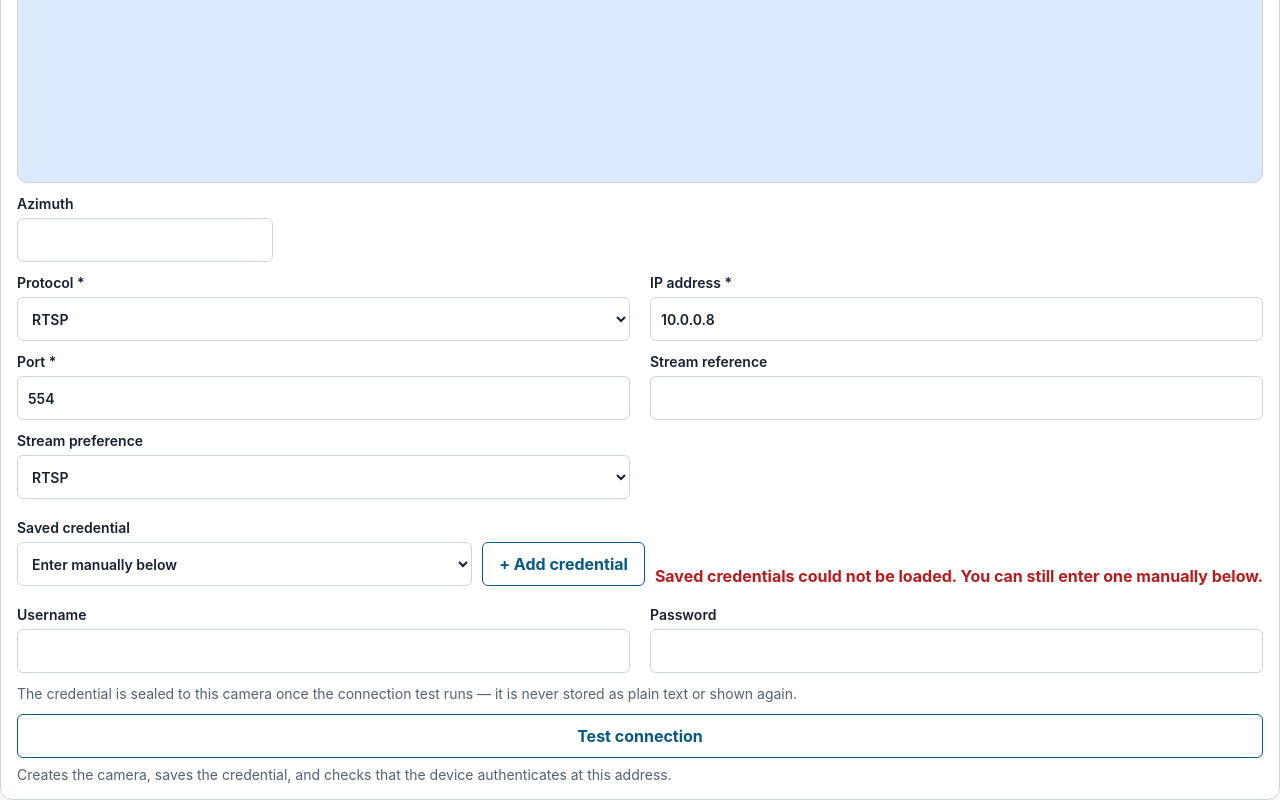
it: CameraForm › does not advance when the device is unreachable
(page scrolled)
Step 1. Click the button "Test connection" → {"x": 640, "y": 736}, box 17,714 -> 1263,758
(page scrolled)
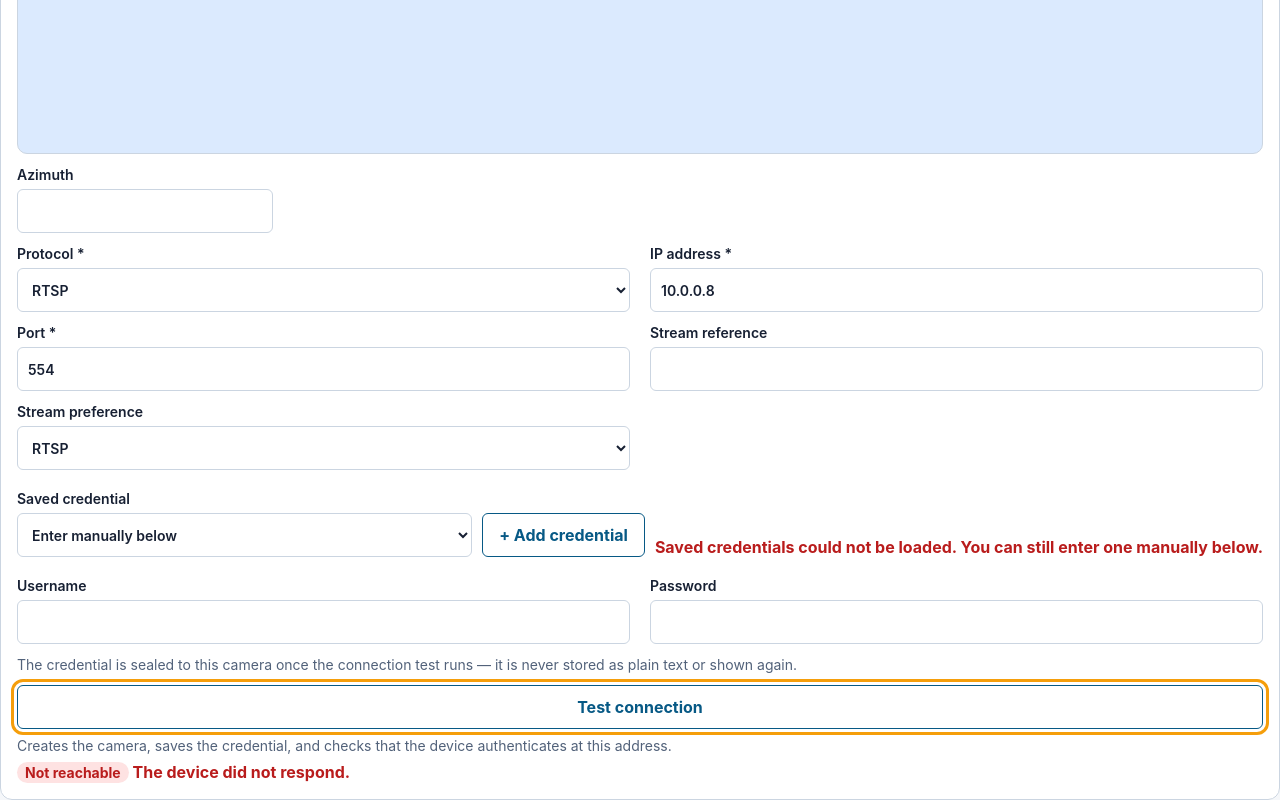
Check: the text "Not reachable" is shown, box 17,762 -> 129,783
